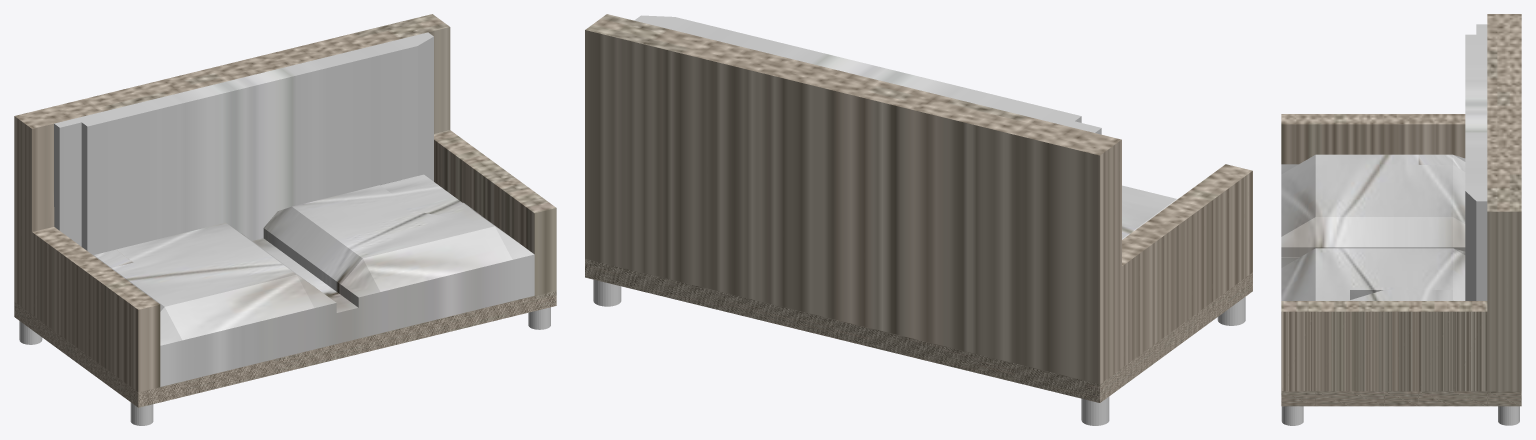
The model's file is Couch .fbx.
The picture shows the model from 3 angles, left to right: view 1: azimuth 30°, elevation 25°; view 2: azimuth 150°, elevation 25°; view 3: azimuth 270°, elevation 25°; orthographic projection. The views are drawn at different scales.
Parts seen in each view (by area): view 1: Cube.007; view 2: Cube.007, Cylinder.009, Cylinder.012; view 3: Cube.007, Cylinder.011, Cylinder.012.
Part boxes in pixels (x1,y1,x2,y2): Cube.007: (14, 14, 556, 407); Cube.007: (585, 14, 1252, 402); Cylinder.009: (1081, 397, 1109, 425); Cylinder.012: (593, 279, 621, 306); Cube.007: (1281, 14, 1521, 406); Cylinder.011: (1281, 406, 1303, 425); Cylinder.012: (1498, 406, 1519, 425).
Bounding box in the file's own units: 849 × 430 × 436.
